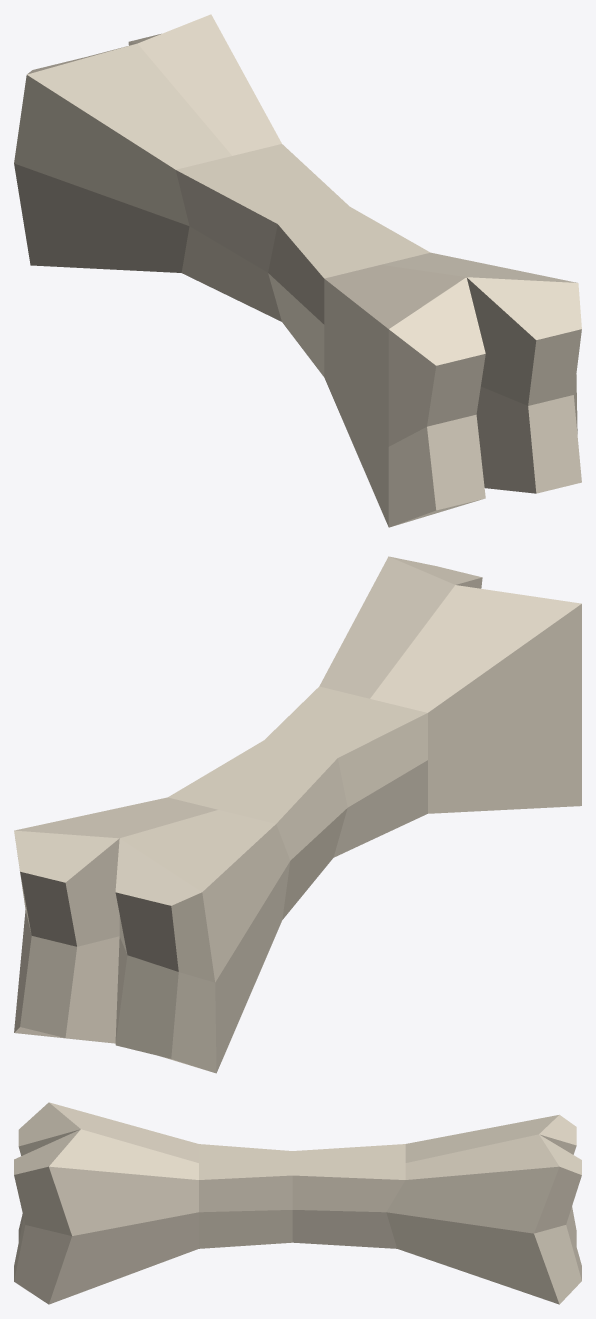
The model's file is DogBone.fbx.
3 renders of one model, top to bottom at view 1: azimuth 30°, elevation 25°; view 2: azimuth 150°, elevation 25°; view 3: azimuth 270°, elevation 25°, orthographic. The views are drawn at different scales.
Parts seen in each view (by area): view 1: Cube; view 2: Cube; view 3: Cube.
Boxes of the visible parts, bbox=[...] form: Cube: bbox=[14, 14, 581, 527]; Cube: bbox=[14, 556, 581, 1073]; Cube: bbox=[14, 1102, 581, 1304].
Bounding box in the file's own units: 223 × 211 × 746.
